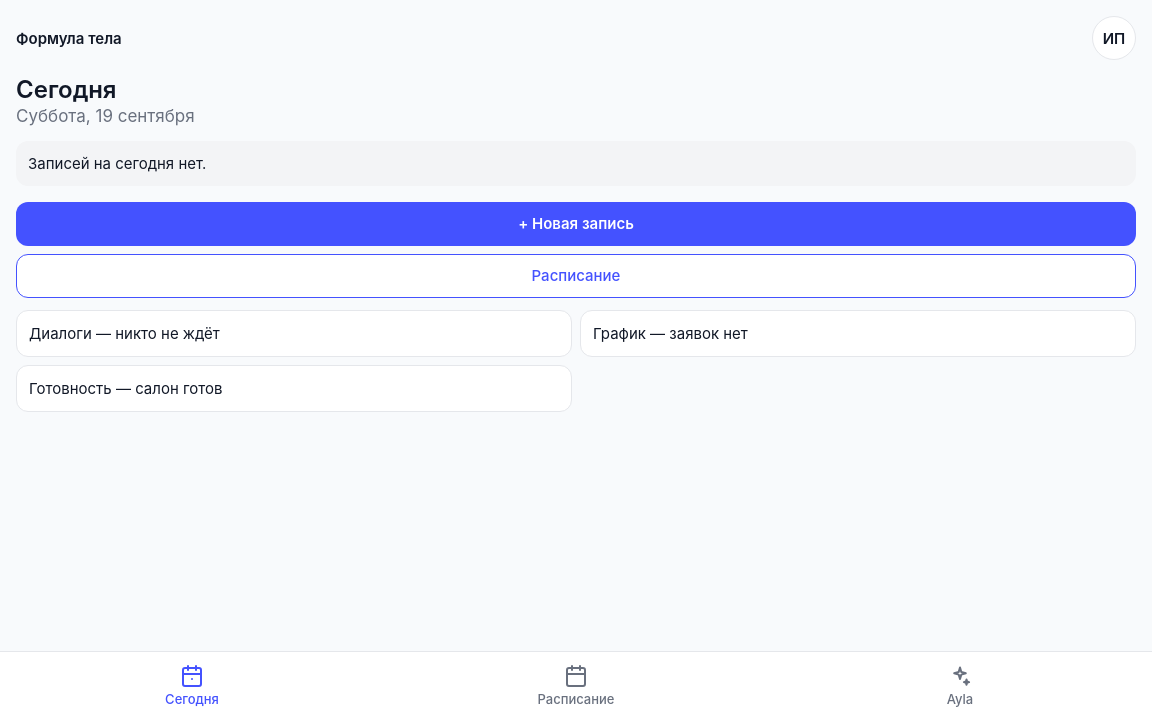
Test: аватар → лист (DRF-2115) › пункт services ведёт на /admin/services
This screenshot has width=1152, height=720.
Click the button with aria-label "Меню профиля" at (1114, 38), box x1=1092 y1=16 x2=1136 y2=60
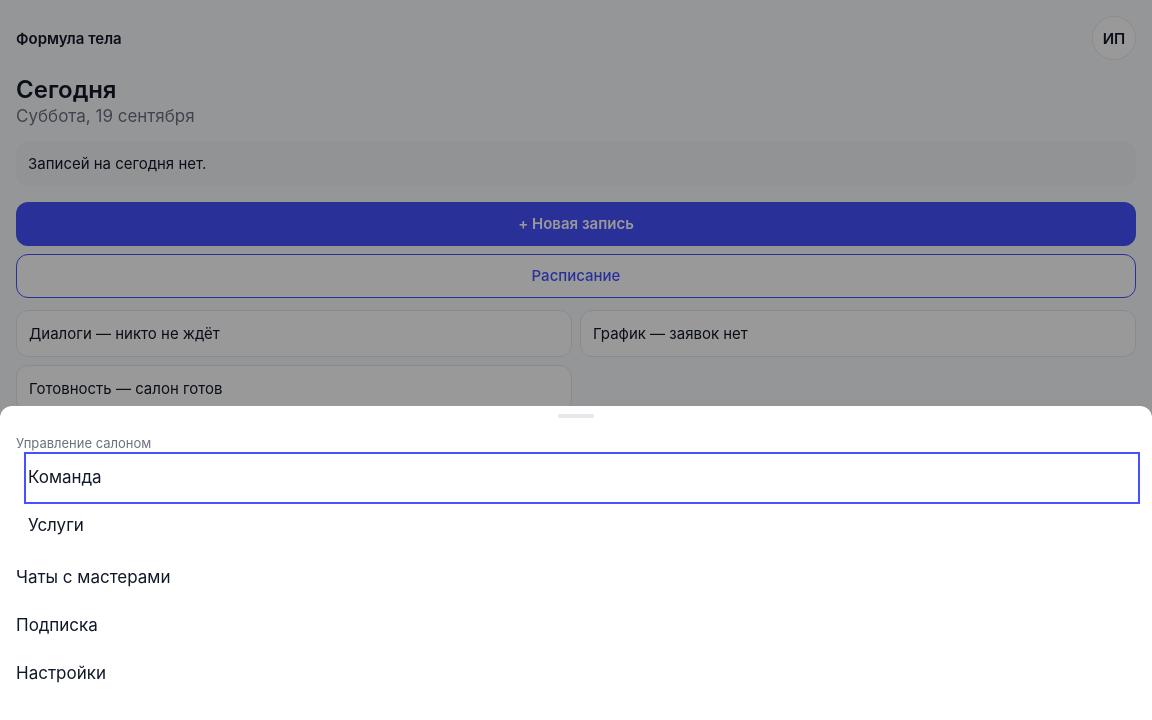
Click the button "Услуги" at (56, 525), box x1=28 y1=504 x2=1136 y2=548
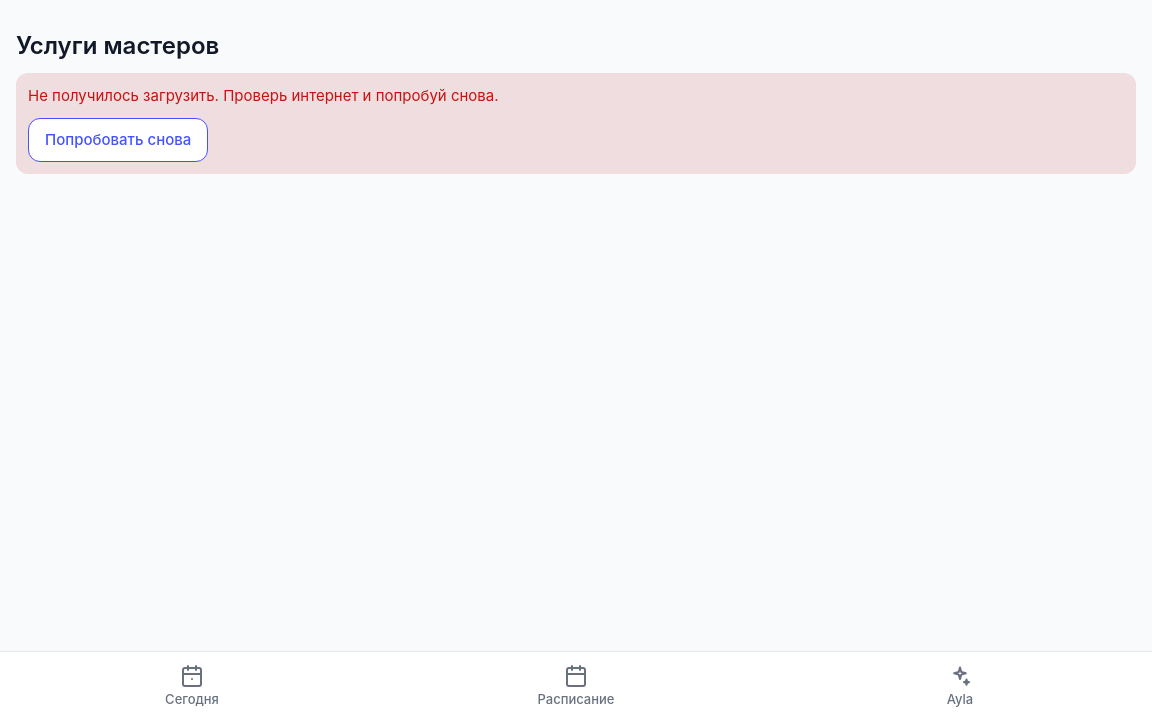
Check: the heading "Услуги мастеров" is shown, box x1=16 y1=31 x2=219 y2=60
